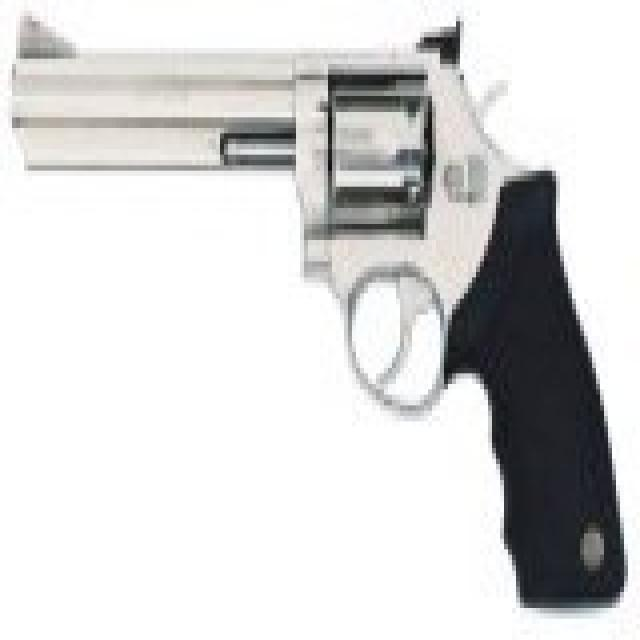Gun: (10, 4, 620, 592)
